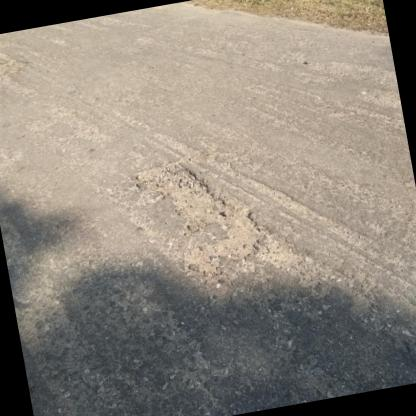pothole: (131, 146, 273, 284)
